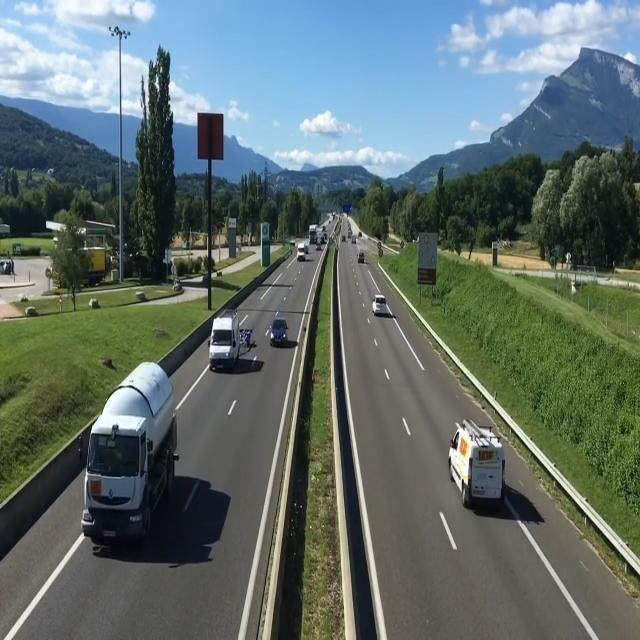Car: (268, 317, 290, 347), (370, 294, 388, 316), (356, 251, 366, 263)
Truck: (74, 359, 180, 550), (308, 224, 318, 245)
Van: (448, 422, 508, 509), (207, 308, 242, 371), (296, 242, 306, 260)
